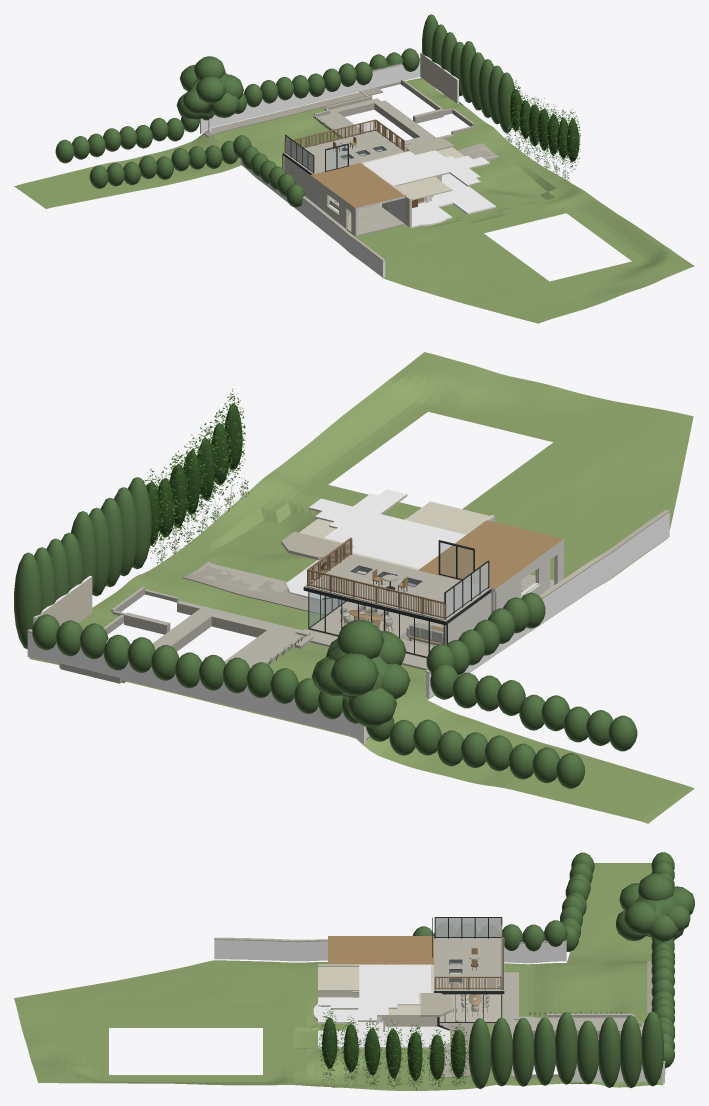
The picture shows the model from 3 angles, top to bottom: view 1: azimuth 30°, elevation 25°; view 2: azimuth 150°, elevation 25°; view 3: azimuth 270°, elevation 25°; orthographic projection. The views are drawn at different scales.
Visible parts, largest first — view 1: Proposal revision | Plot ground - title plan approximate, Proposal | Boundary leaf detail East, Proposal | Side wing first floor, Main rear garden niche wall, Proposal | Terrace continuous stone finish, Proposal revision | Western house boundary wall, Rear wall garden path, Entrance hall | floor, Landing | floor, Proposal | Side wing ground floor, Bedroom 3 | floor, Proposal | Pool terrace.003 (+16 smaller); view 2: Proposal revision | Plot ground - title plan approximate, Proposal | Boundary leaf detail East, Main rear garden niche wall, Proposal | Side wing first floor, Proposal | Terrace continuous stone finish, Proposal revision | Western house boundary wall, Proposal revision | Rear terrace paving, Landing | floor, Bedroom 3 | floor, Boundary hedge, Proposal | Quiet oak | Proposal | Garden room floor, Mature tree foliage.078 (+55 smaller); view 3: Proposal revision | Plot ground - title plan approximate, Proposal | Boundary leaf detail East, Proposal | Terrace continuous stone finish, Proposal revision | Western house boundary wall, Proposal | Side wing first floor, Boundary hedge, Boundary hedge.004, Boundary hedge.001, Boundary hedge.002, Boundary hedge.008, Landing | floor, Boundary hedge.006 (+27 smaller).
Boxes of the visible parts, bbox=[...] form: Proposal revision | Plot ground - title plan approximate: bbox=[14, 77, 694, 323]; Proposal | Boundary leaf detail East: bbox=[505, 80, 580, 181]; Proposal | Side wing first floor: bbox=[310, 162, 405, 209]; Main rear garden niche wall: bbox=[200, 61, 420, 133]; Proposal | Terrace continuous stone finish: bbox=[283, 131, 405, 174]; Proposal revision | Western house boundary wall: bbox=[240, 158, 385, 277]; Rear wall garden path: bbox=[203, 87, 383, 137]; Entrance hall | floor: bbox=[431, 186, 495, 214]; Landing | floor: bbox=[422, 155, 489, 186]; Proposal | Side wing ground floor: bbox=[329, 198, 405, 236]; Bedroom 3 | floor: bbox=[362, 151, 433, 175]; Proposal | Pool terrace.003: bbox=[374, 100, 430, 138]; Proposal revision | Plot ground - title plan approximate: bbox=[29, 352, 694, 823]; Proposal | Boundary leaf detail East: bbox=[143, 389, 249, 564]; Main rear garden niche wall: bbox=[27, 632, 365, 744]; Proposal | Side wing first floor: bbox=[418, 520, 563, 592]; Proposal | Terrace continuous stone finish: bbox=[304, 554, 490, 621]; Proposal revision | Western house boundary wall: bbox=[426, 512, 669, 698]; Proposal revision | Rear terrace paving: bbox=[183, 562, 344, 615]; Landing | floor: bbox=[308, 489, 410, 529]; Bedroom 3 | floor: bbox=[348, 525, 444, 569]; Boundary hedge: bbox=[14, 552, 42, 649]; Proposal | Quiet oak | Proposal | Garden room floor: bbox=[309, 601, 443, 658]; Mature tree foliage.078: bbox=[330, 653, 378, 696]; Proposal revision | Plot ground - title plan approximate: bbox=[14, 863, 663, 1090]; Proposal | Boundary leaf detail East: bbox=[318, 1009, 468, 1090]; Proposal | Terrace continuous stone finish: bbox=[434, 937, 504, 990]; Proposal revision | Western house boundary wall: bbox=[214, 940, 566, 963]; Proposal | Side wing first floor: bbox=[328, 936, 433, 964]; Boundary hedge: bbox=[641, 1011, 663, 1086]; Boundary hedge.004: bbox=[555, 1012, 577, 1084]; Boundary hedge.001: bbox=[620, 1015, 641, 1087]; Boundary hedge.002: bbox=[598, 1017, 620, 1087]; Boundary hedge.008: bbox=[468, 1018, 490, 1088]; Landing | floor: bbox=[318, 986, 388, 1021]; Boundary hedge.006: bbox=[512, 1017, 533, 1086].
Size of the model in its own units: 44.11 by 8.46 by 52.36.
65 materials, 3 textured.
